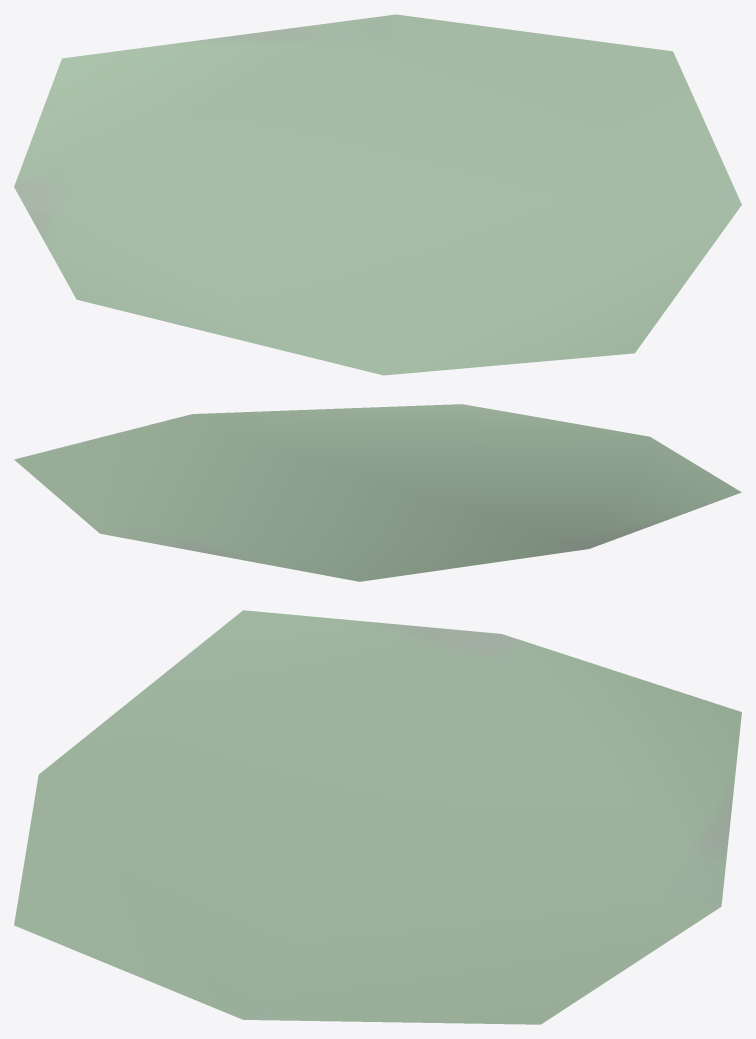
File: TROLLHOLE02_HOLECAP182.fbx
The picture shows the model from 3 angles, top to bottom: view 1: azimuth 30°, elevation 25°; view 2: azimuth 150°, elevation 25°; view 3: azimuth 270°, elevation 25°; orthographic projection. The views are drawn at different scales.
Visible parts, largest first — view 1: TROLLHOLE02_HOLECAP182; view 2: TROLLHOLE02_HOLECAP182; view 3: TROLLHOLE02_HOLECAP182.
Boxes of the visible parts, <box> form: TROLLHOLE02_HOLECAP182: <box>14,14,741,375</box>; TROLLHOLE02_HOLECAP182: <box>14,404,741,581</box>; TROLLHOLE02_HOLECAP182: <box>14,610,741,1024</box>.
Size of the model in its own units: 21923 by 2684 by 17906.
Materials: 1 (1 with a texture image).
